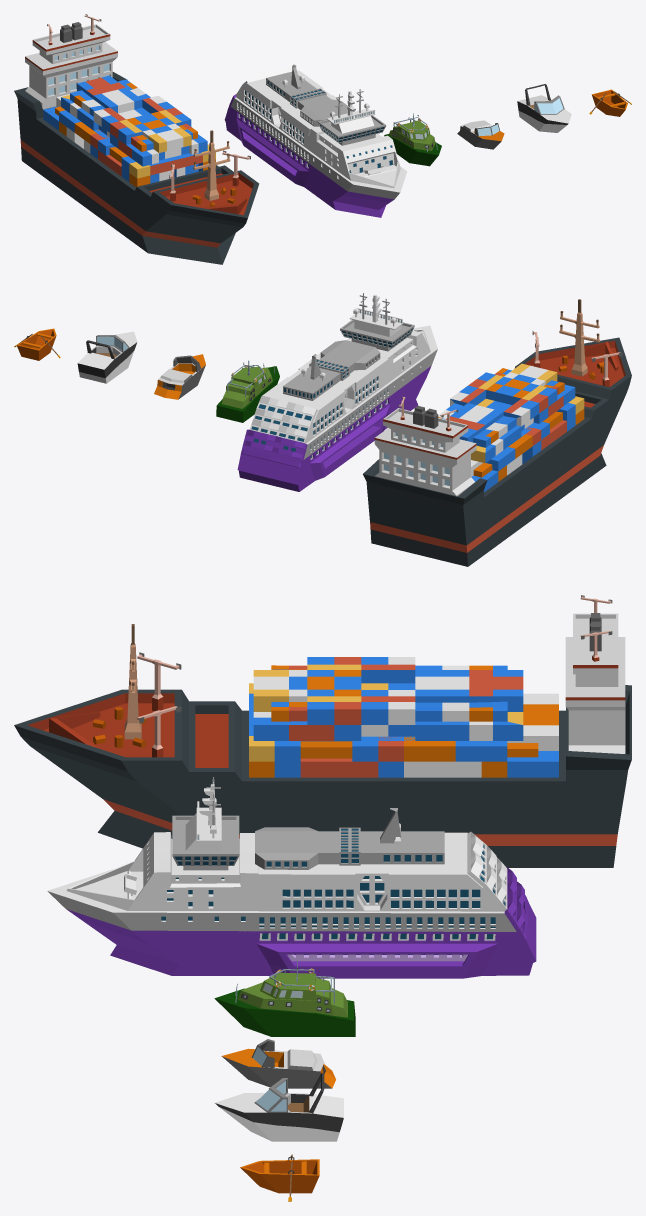
File: 6_low_poly_boats.glb
3 views of the same model, one above another, from view 1: azimuth 30°, elevation 25°; view 2: azimuth 150°, elevation 25°; view 3: azimuth 270°, elevation 25° (orthographic). The views are drawn at different scales.
Parts seen in each view (by area): view 1: Boat.005, Boat.004, Boat.003, Boat.001, Boat.002, Boat; view 2: Boat.005, Boat.004, Boat.003, Boat.001, Boat.002, Boat; view 3: Boat.005, Boat.004, Boat.003, Boat.001, Boat.002, Boat.
Boxes of the visible parts, <box> form: Boat.005: <box>14,14,259,264</box>; Boat.004: <box>224,64,407,217</box>; Boat.003: <box>384,113,441,166</box>; Boat.001: <box>517,84,571,132</box>; Boat.002: <box>457,120,504,149</box>; Boat: <box>589,89,631,116</box>; Boat.005: <box>363,299,631,566</box>; Boat.004: <box>237,293,437,491</box>; Boat.003: <box>216,360,279,422</box>; Boat.001: <box>77,331,137,383</box>; Boat.002: <box>154,354,205,399</box>; Boat: <box>14,328,60,360</box>; Boat.005: <box>14,595,631,867</box>; Boat.004: <box>47,777,536,978</box>; Boat.003: <box>214,959,355,1036</box>; Boat.001: <box>215,1073,343,1141</box>; Boat.002: <box>221,1039,335,1088</box>; Boat: <box>240,1154,319,1201</box>.
Bounding box in the file's own units: 6342 × 1551 × 4002.
1 material, 1 textured.
